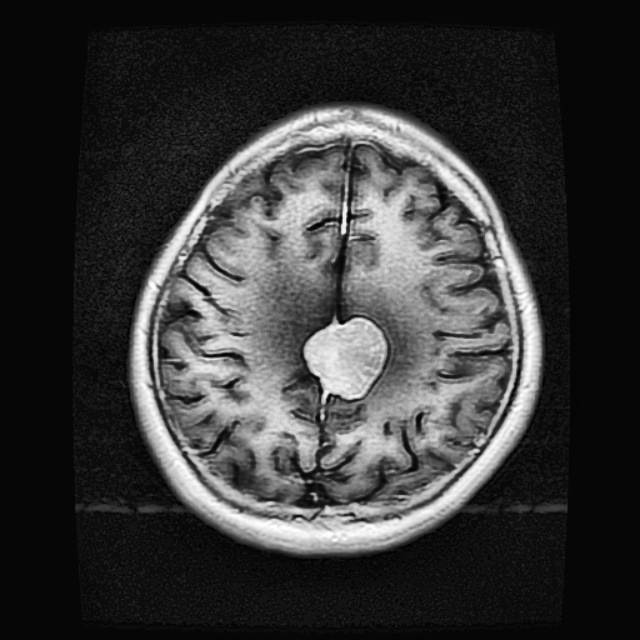Pituitary: (304, 317, 387, 399)
